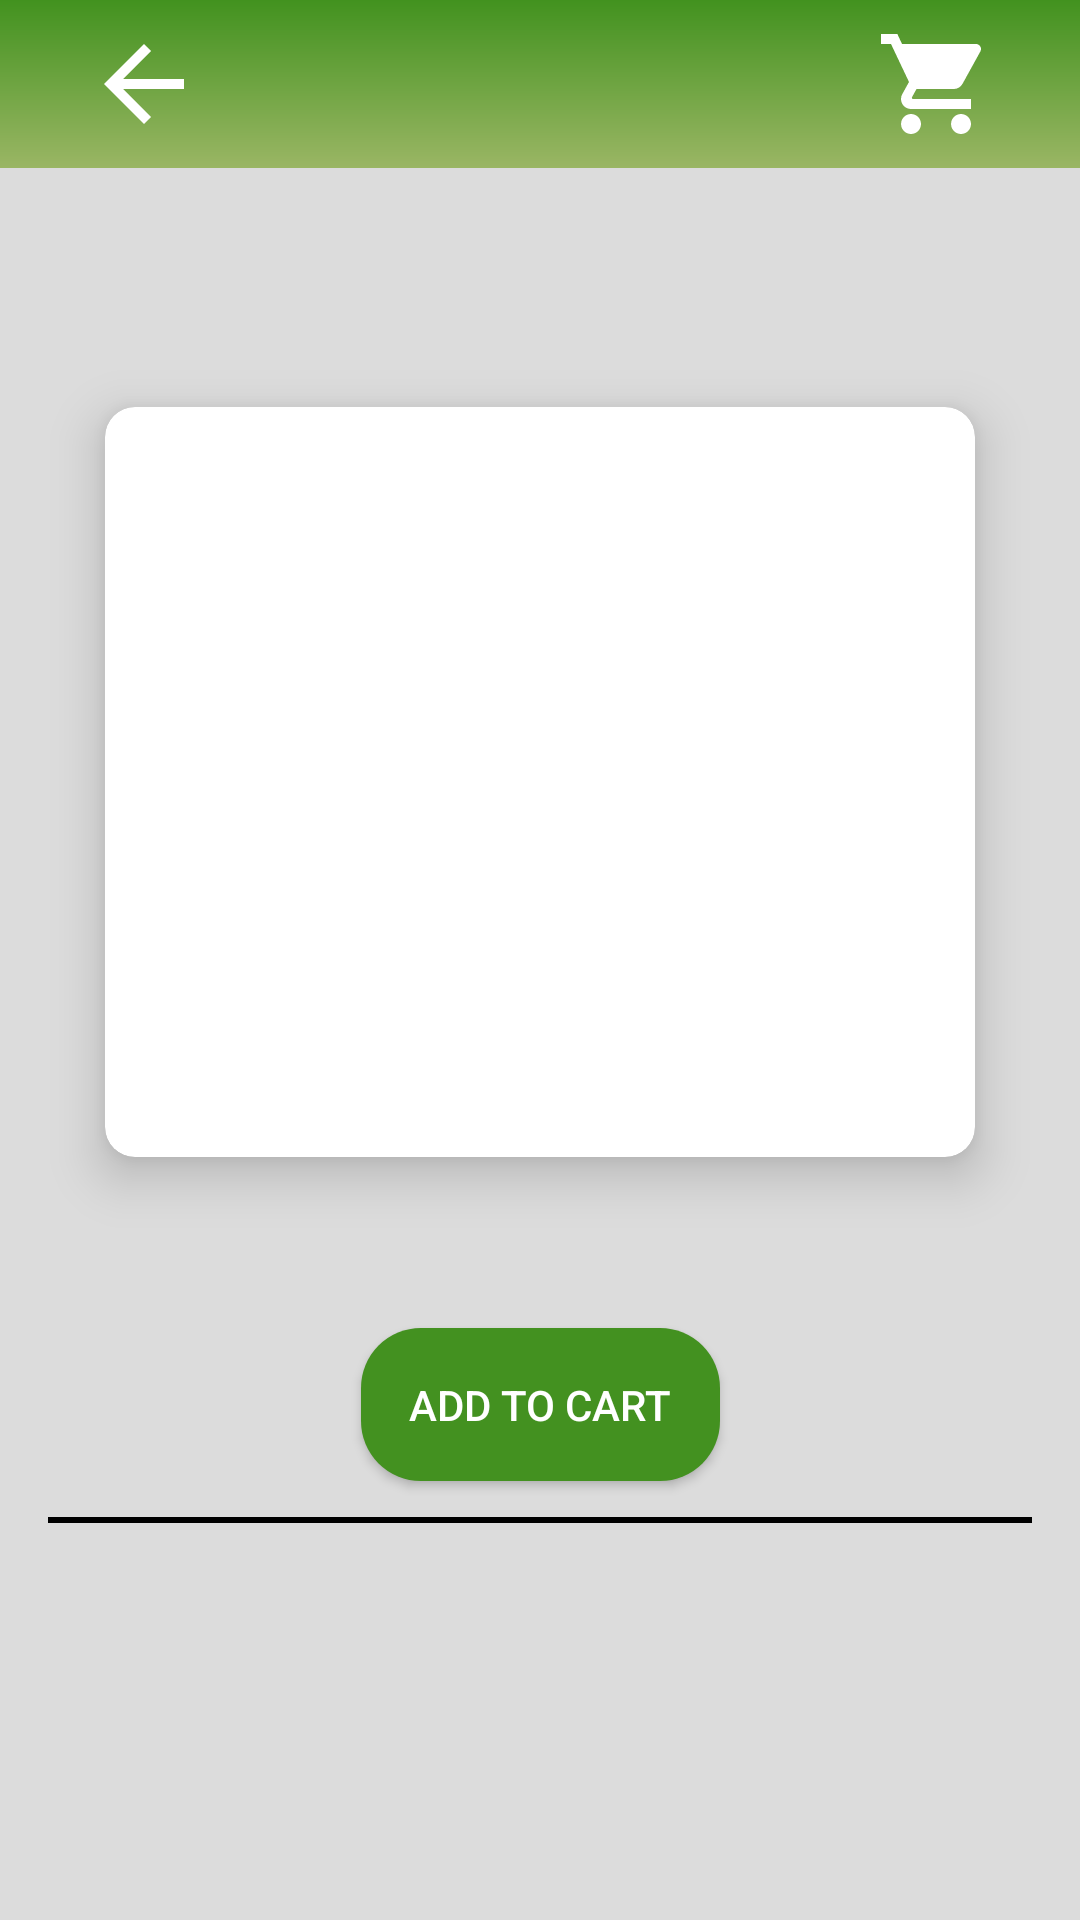

Where to tap for icons on this 1080px x 1920px app screen, as point (x, y):
shopping cart: point (936, 84)
